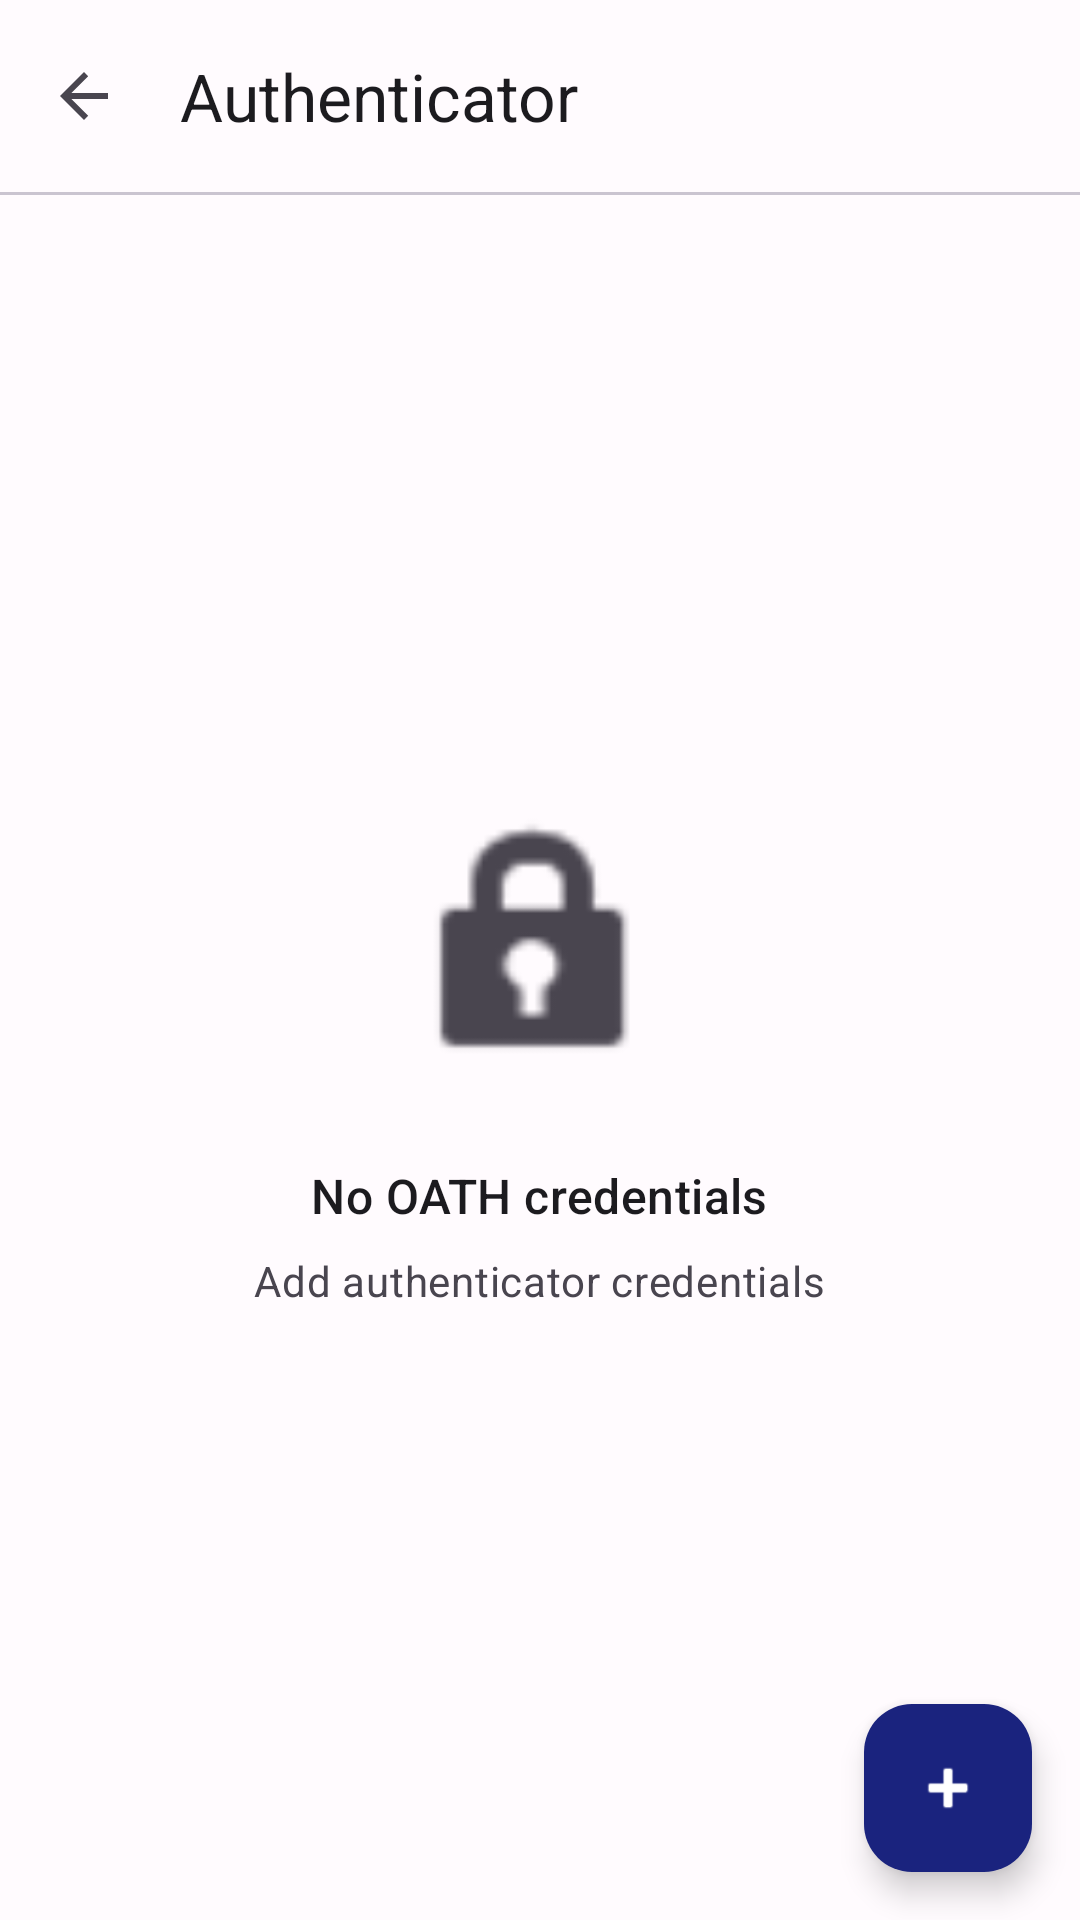

Icons on this 1080 x 1920 Android screen, each with its box as (x1, y1, x2, y2):
Add OATH credential: (864, 1704, 1032, 1872)
lock idle: (439, 828, 628, 1048)
